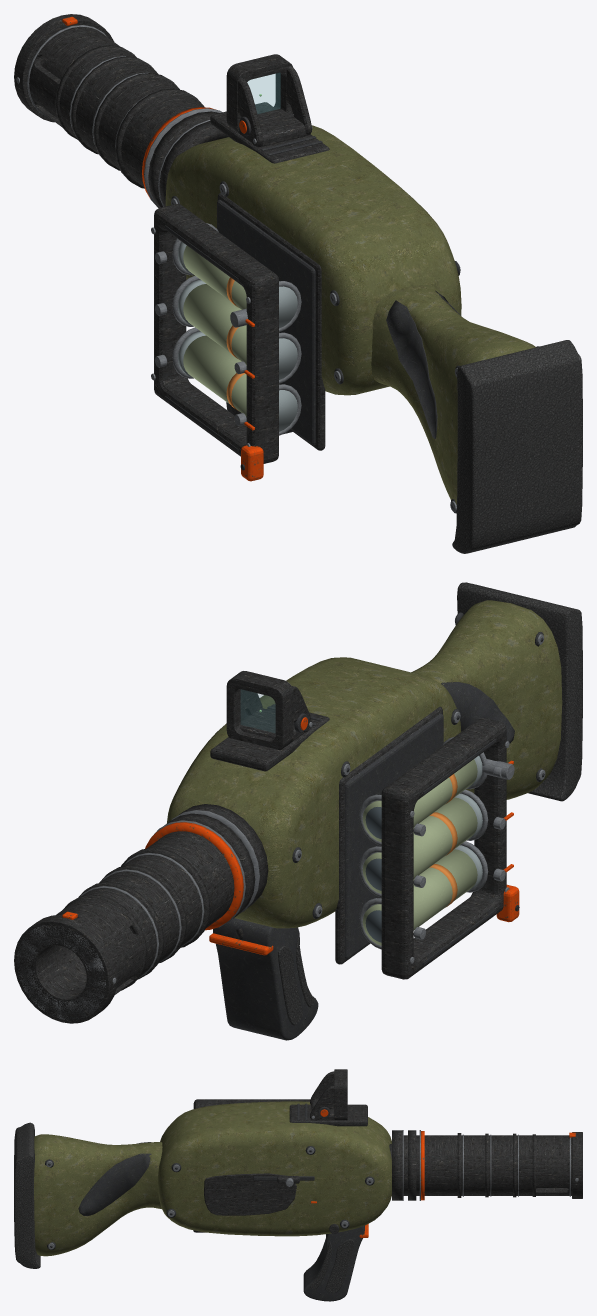
The model's file is skipjack.gltf.
The picture shows the model from 3 angles, top to bottom: view 1: azimuth 30°, elevation 25°; view 2: azimuth 150°, elevation 25°; view 3: azimuth 270°, elevation 25°; orthographic projection. The views are drawn at different scales.
Visible parts, largest first — view 1: body | olive drab, body | gunmetal, body | rubber, mag | gunmetal, mag | dark polymer, body | dark polymer, mag | round 3, mag | round 2, mag | machined steel, mag | round 1, body | machined steel, body | optic glass (+1 smaller); view 2: body | olive drab, body | gunmetal, mag | gunmetal, body | dark polymer, body | rubber, mag | dark polymer, body | machined steel, mag | round 3, mag | round 2, mag | machined steel, mag | round 1, body | orange paint (+3 smaller); view 3: body | olive drab, body | gunmetal, body | dark polymer, body | rubber, body | machined steel, mag | gunmetal, body | orange paint.
Boxes of the visible parts, x1,y1,x2,y2 form: body | olive drab: [165, 125, 535, 504]; body | gunmetal: [14, 14, 329, 450]; body | rubber: [230, 340, 582, 553]; mag | gunmetal: [154, 204, 278, 470]; mag | dark polymer: [165, 199, 315, 452]; body | dark polymer: [171, 116, 539, 513]; mag | round 3: [177, 331, 297, 431]; mag | round 2: [177, 279, 297, 379]; mag | machined steel: [151, 223, 301, 446]; mag | round 1: [177, 242, 297, 328]; body | machined steel: [16, 25, 460, 511]; body | optic glass: [247, 73, 280, 113]; body | olive drab: [167, 600, 562, 928]; body | gunmetal: [14, 671, 442, 1023]; mag | gunmetal: [381, 717, 519, 979]; body | dark polymer: [213, 612, 544, 1040]; body | rubber: [278, 582, 582, 1025]; mag | dark polymer: [345, 713, 496, 965]; body | machined steel: [17, 616, 545, 1020]; mag | round 3: [362, 845, 482, 945]; mag | round 2: [362, 793, 482, 893]; mag | machined steel: [359, 737, 514, 963]; mag | round 1: [362, 755, 482, 842]; body | orange paint: [62, 717, 307, 930]; body | olive drab: [34, 1101, 391, 1256]; body | gunmetal: [193, 1069, 582, 1232]; body | dark polymer: [45, 1103, 374, 1301]; body | rubber: [14, 1122, 354, 1292]; body | machined steel: [46, 1115, 578, 1249]; mag | gunmetal: [193, 1099, 310, 1108]; body | orange paint: [320, 1109, 575, 1200].
Bounding box in the file's own units: 0.2775 × 0.4363 × 1.03.
9 materials, 7 textured.
